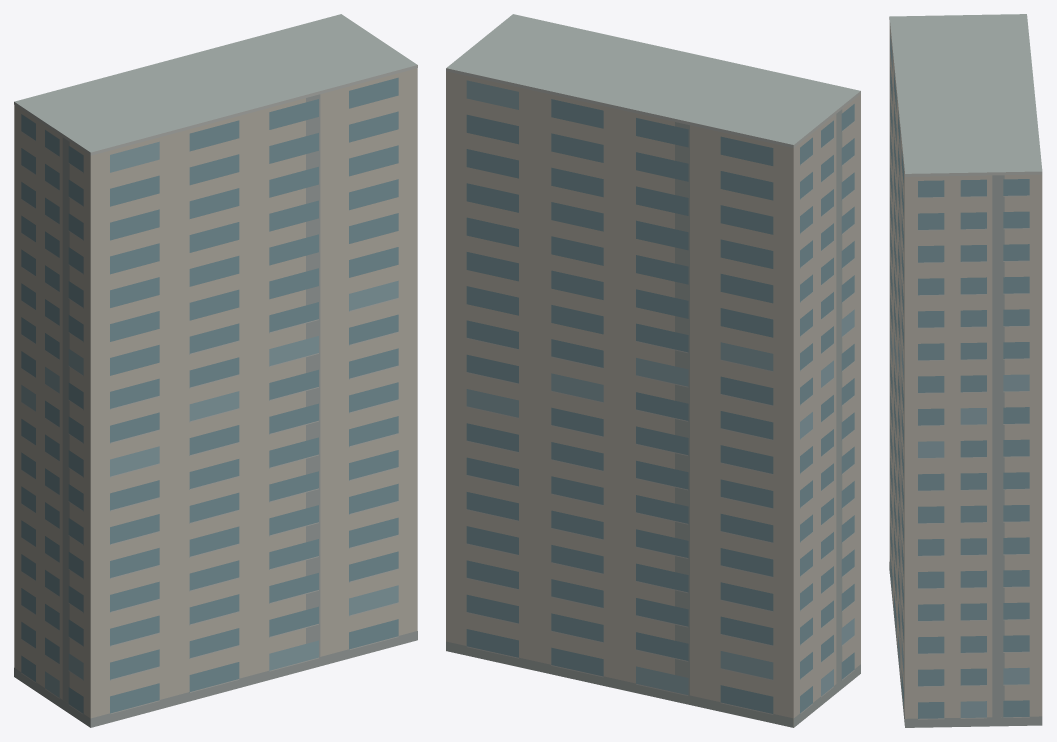
Rendered from residential-d85ddd50-2f0a-43c8-b044-f3abe3579269.glb.
3 renders of one model, left to right at view 1: azimuth 30°, elevation 25°; view 2: azimuth 150°, elevation 25°; view 3: azimuth 270°, elevation 25°, orthographic. The views are drawn at different scales.
Visible parts, largest first — view 1: residential-d85ddd50-2f0a-43c8-b044-f3abe3579269.tmp; view 2: residential-d85ddd50-2f0a-43c8-b044-f3abe3579269.tmp; view 3: residential-d85ddd50-2f0a-43c8-b044-f3abe3579269.tmp.
Part boxes in pixels (<box>): residential-d85ddd50-2f0a-43c8-b044-f3abe3579269.tmp: <box>14,14,417,727</box>; residential-d85ddd50-2f0a-43c8-b044-f3abe3579269.tmp: <box>446,14,860,727</box>; residential-d85ddd50-2f0a-43c8-b044-f3abe3579269.tmp: <box>889,14,1042,727</box>.
Bounding box in the file's own units: 27.87 × 45 × 11.27.
